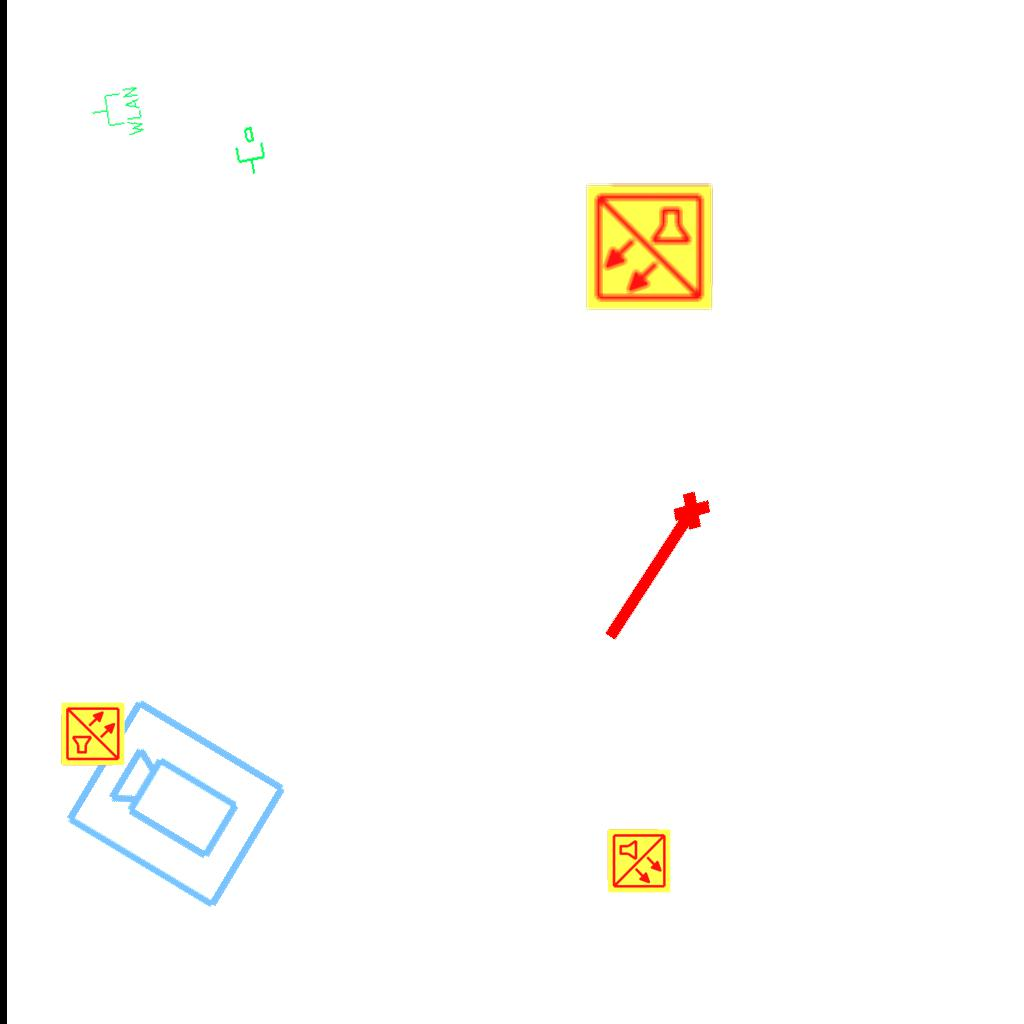ASR_Ansaugoeffnung: (589, 482, 725, 656)
Datenanschluss_einfach: (227, 123, 271, 179)
KFO_Kamera_mit_Festobjektiv: (59, 690, 295, 916)
OKW_Multisensormelder_(Kombination_optischer_Rauch-Kahlenmonoxid_Waerme-Melder): (583, 181, 715, 313), (606, 828, 672, 894), (60, 701, 126, 767)
WLAN: (87, 84, 147, 144)
